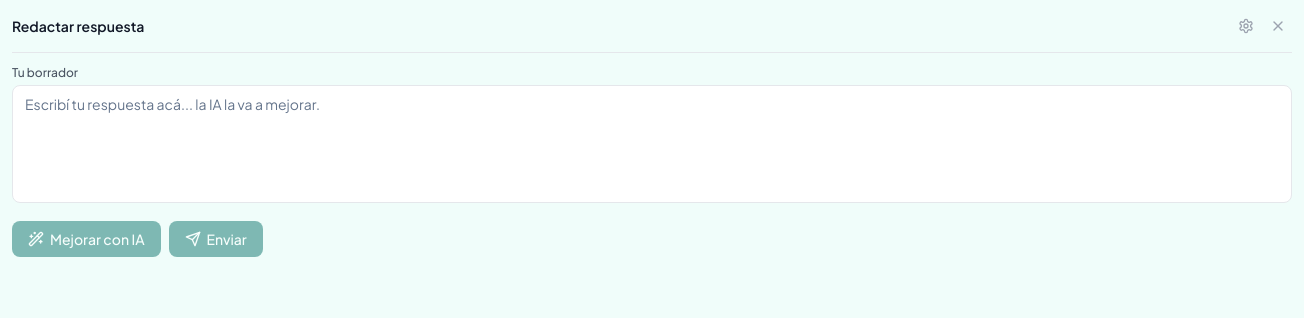
Test: ReplyPanel › shows an error when the send fails
This screenshot has width=1304, height=318.
Type "Borrador directo" into the text box with placeholder "Escribí tu respuesta acá... la IA la va a mejorar.". click: (652, 144)
box: [12,85,1292,203]
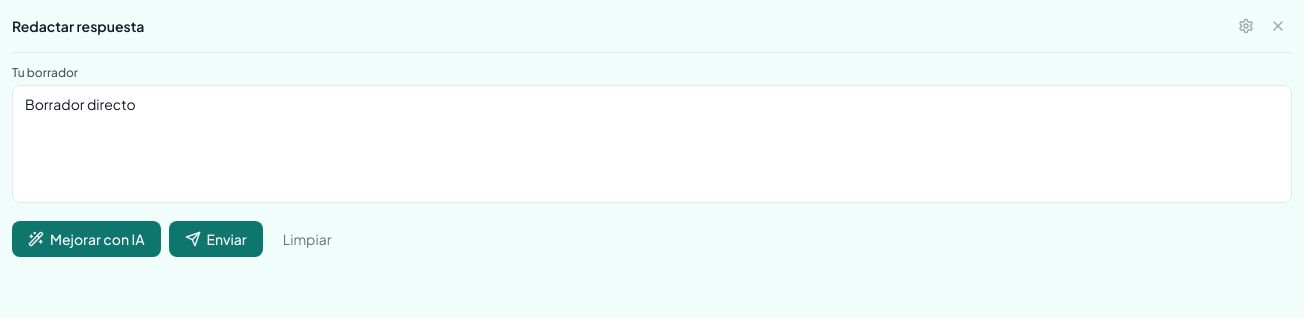
Click the button "Enviar". click: (216, 239)
box: [169,221,263,257]
Wait 5000 ms
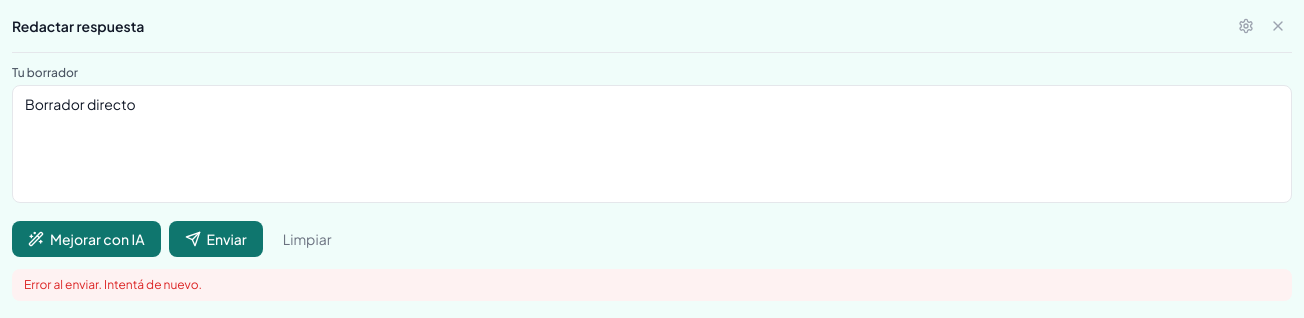
Expected: the text "Error al enviar. Intentá de nuevo." is shown, [12,269,1292,301]
